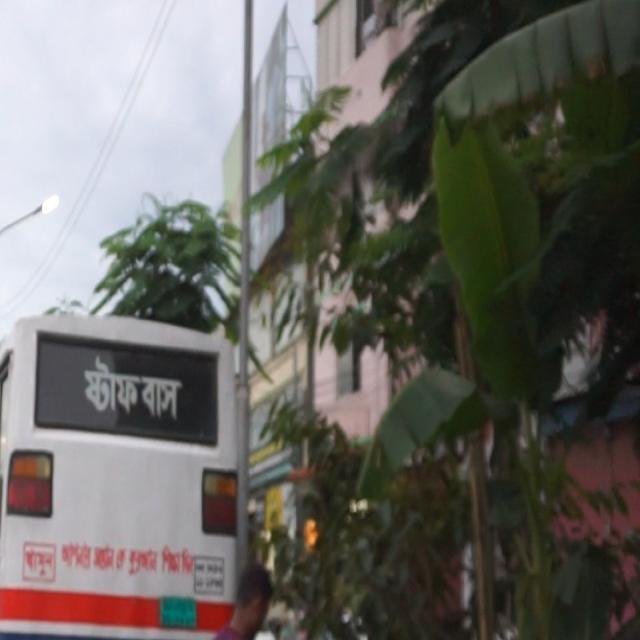bus: (0, 255, 263, 640)
